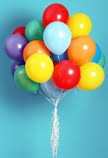Balloon: (43, 21, 72, 54), (25, 54, 53, 83), (54, 60, 80, 91), (69, 36, 95, 64), (80, 62, 105, 91), (4, 34, 26, 60), (69, 13, 92, 37)
